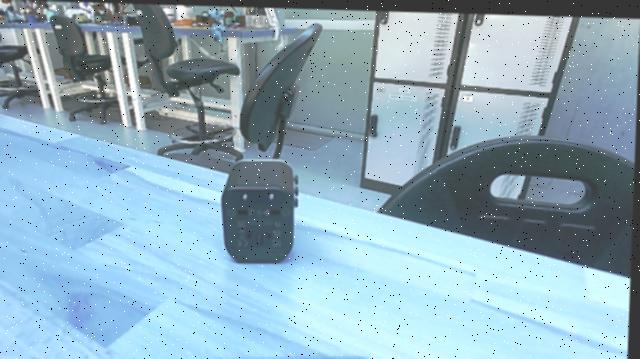adapter: (212, 152, 304, 270)
